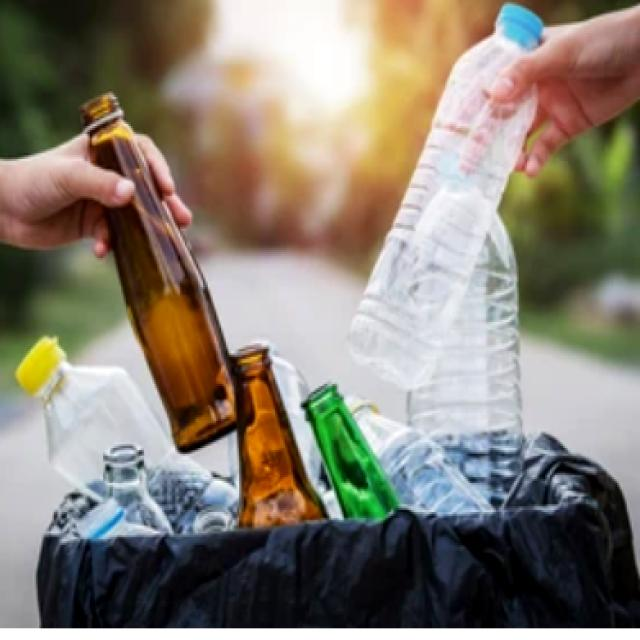Glass: (79, 82, 259, 462), (225, 340, 339, 529), (301, 377, 409, 533)
Plastic: (5, 324, 241, 534)
